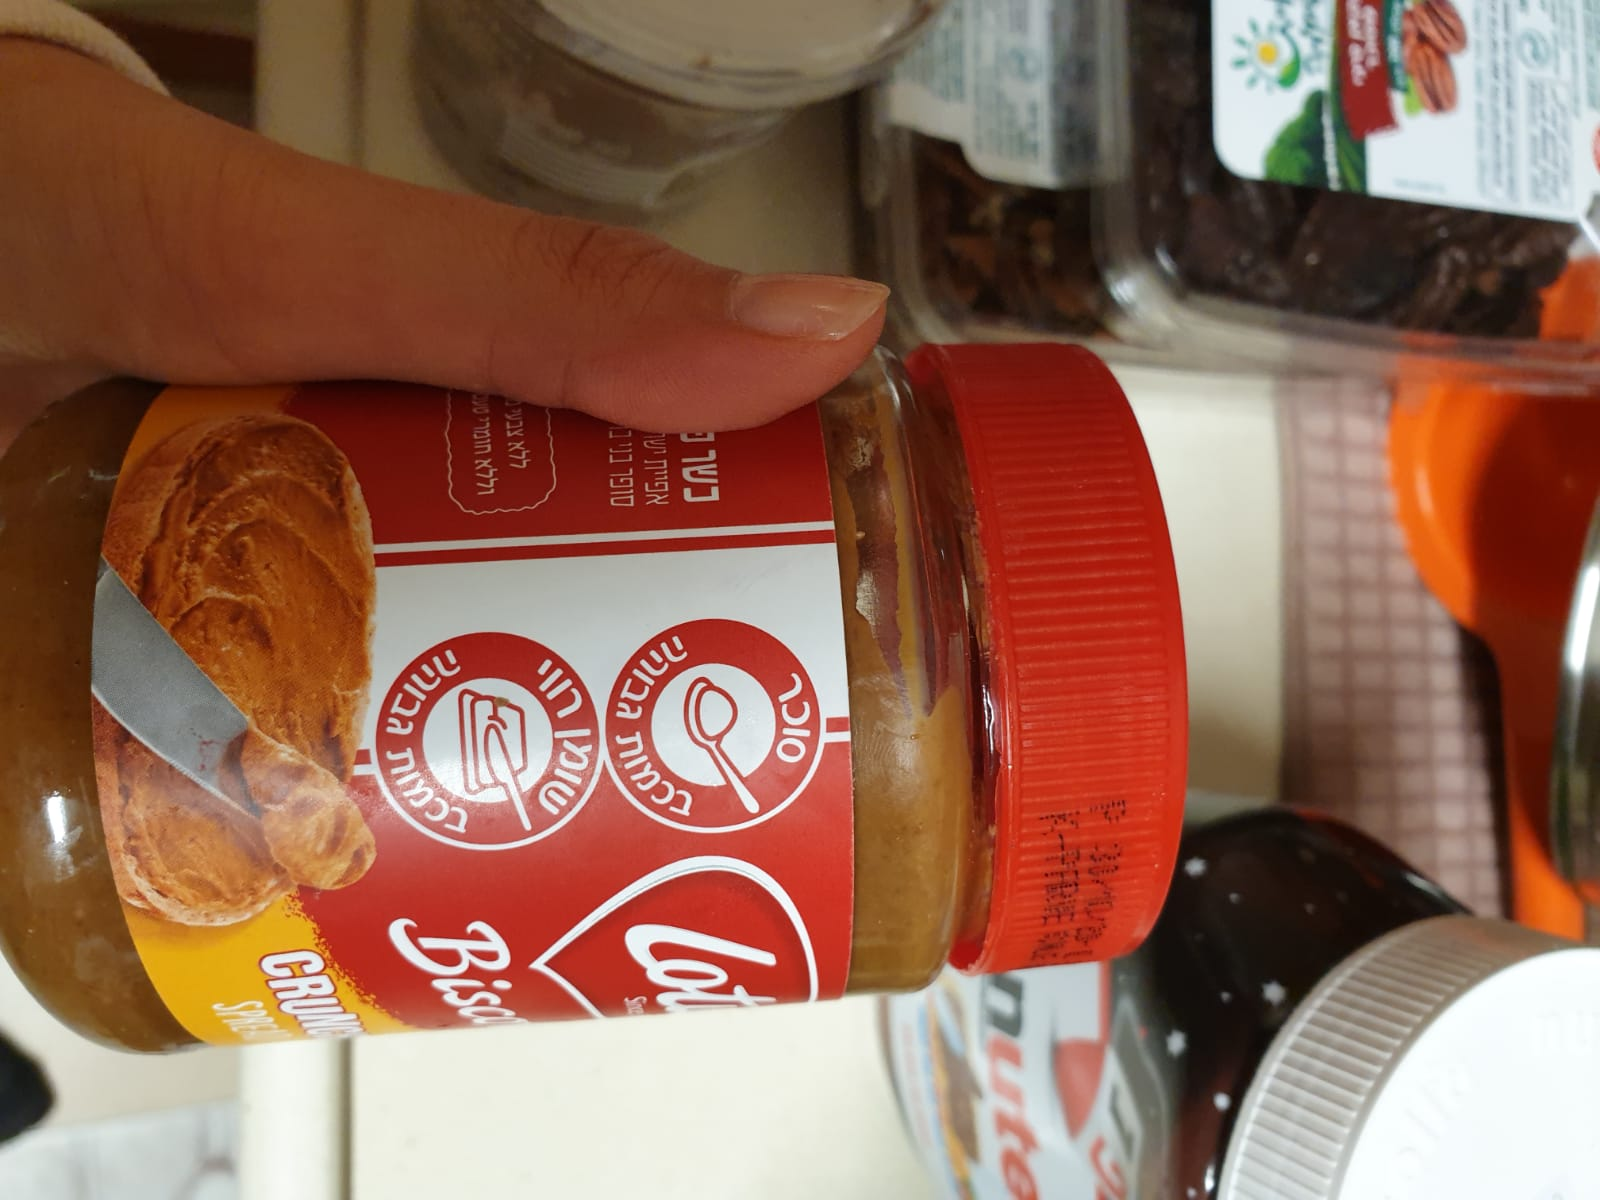fat: (373, 628, 609, 851)
sugar: (603, 619, 825, 829)
